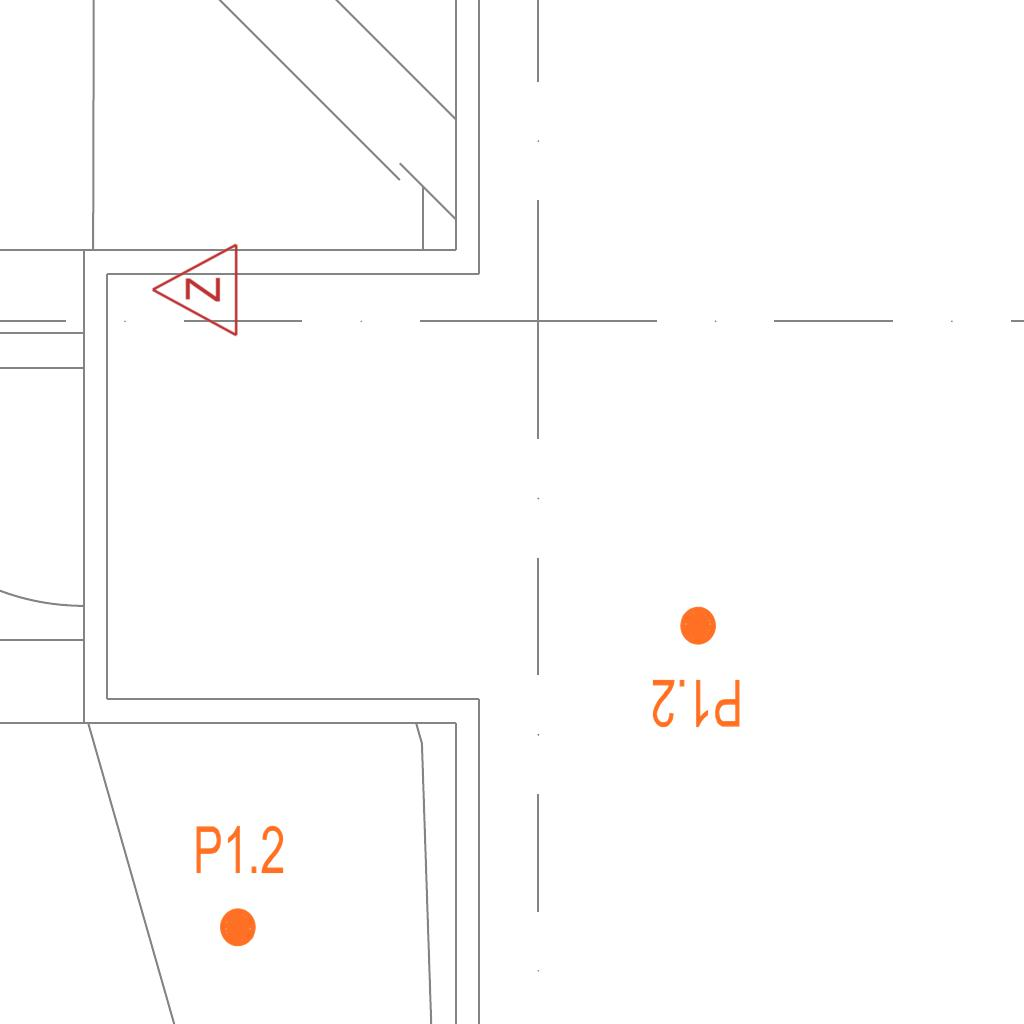Downlight_LED_Einbauleuchten_Flur: (650, 603, 743, 731), (193, 822, 286, 950)
Zimmersignalleuchte: (145, 242, 245, 340)
